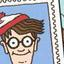waldo: (0, 12, 44, 64)
